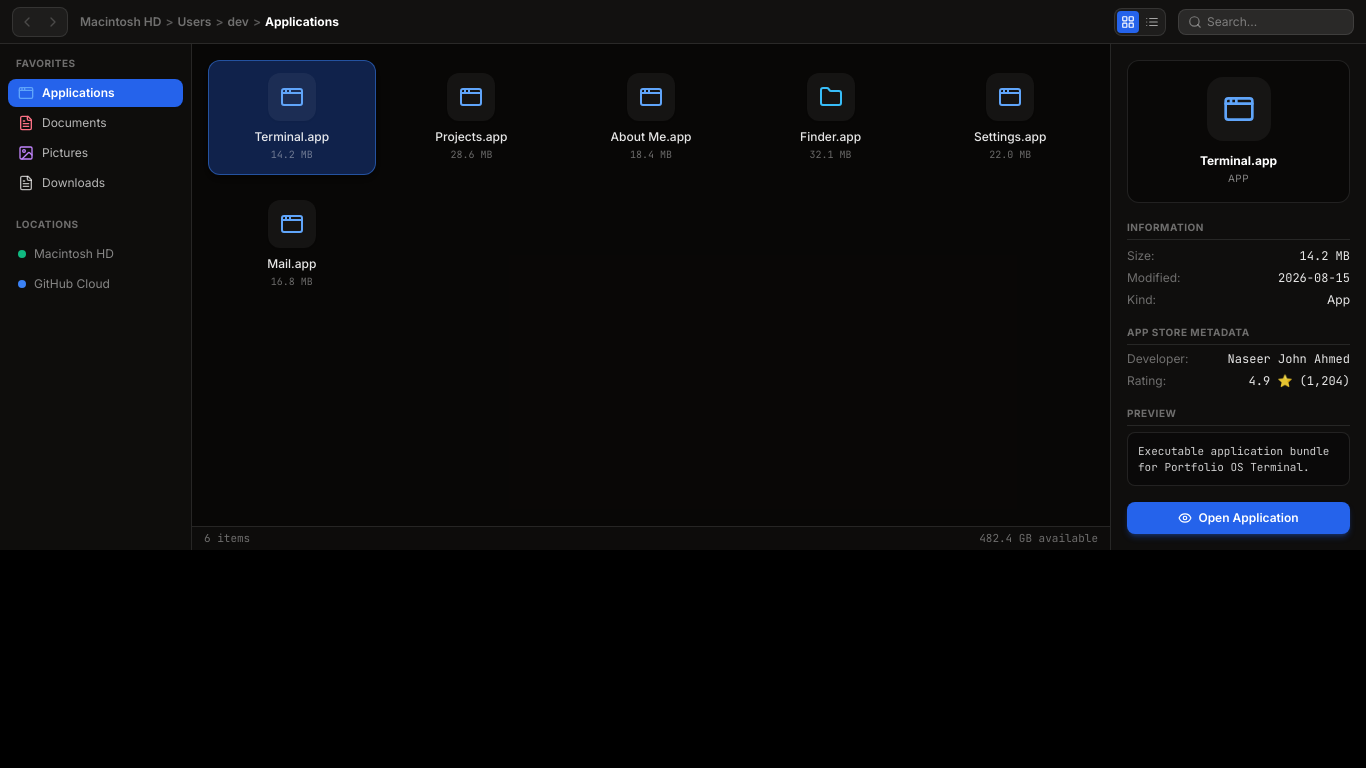
Test case: Applications Suite: 6 macOS Interactive Applications › FinderApp › toggles between Grid and List view modes
Click the button with test id "finder-view-list-btn" at {"x": 1152, "y": 22}, box left=1141, top=10, right=1163, bottom=32
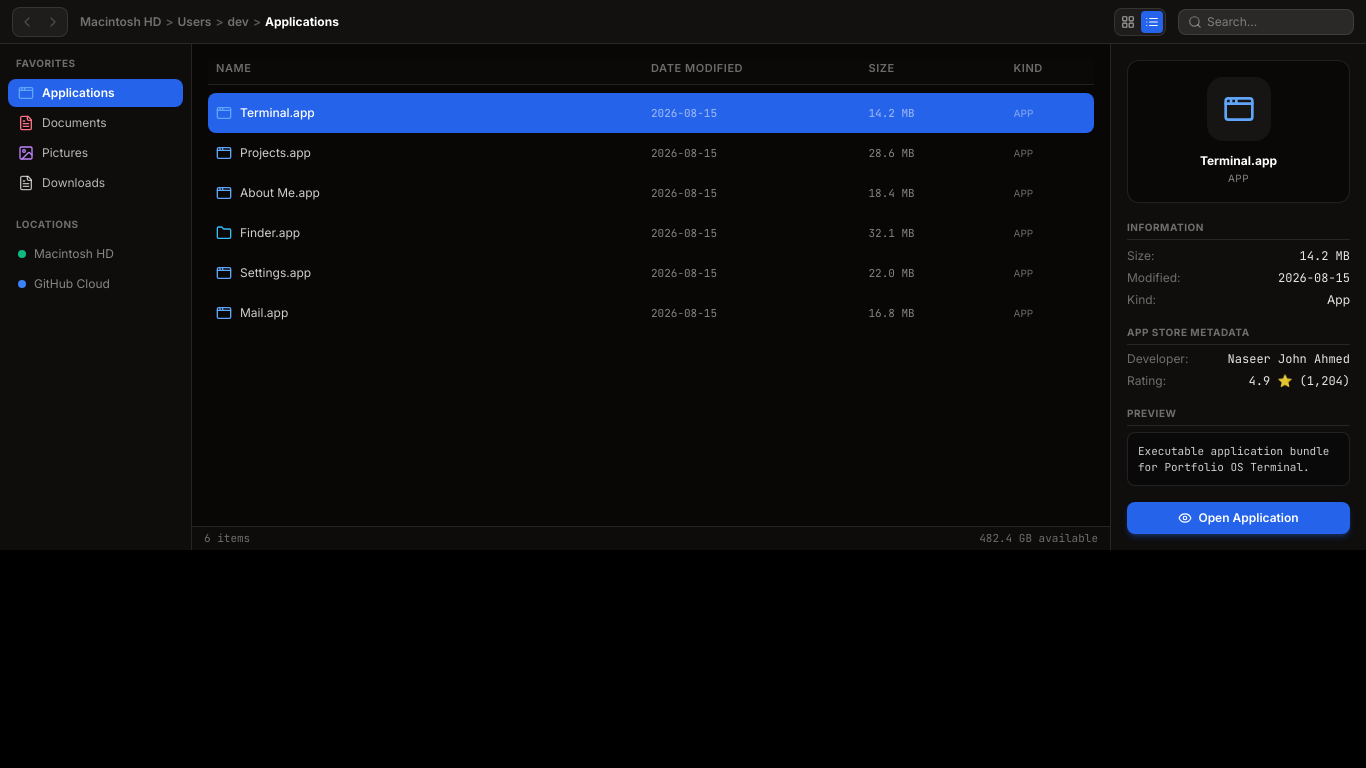
Now the text "Date Modified" is shown, box left=651, top=61, right=743, bottom=75
Now the text "Kind" is shown, box left=1014, top=61, right=1043, bottom=75
Click the button with test id "finder-view-grid-btn" at {"x": 1128, "y": 22}, box left=1117, top=10, right=1139, bottom=32
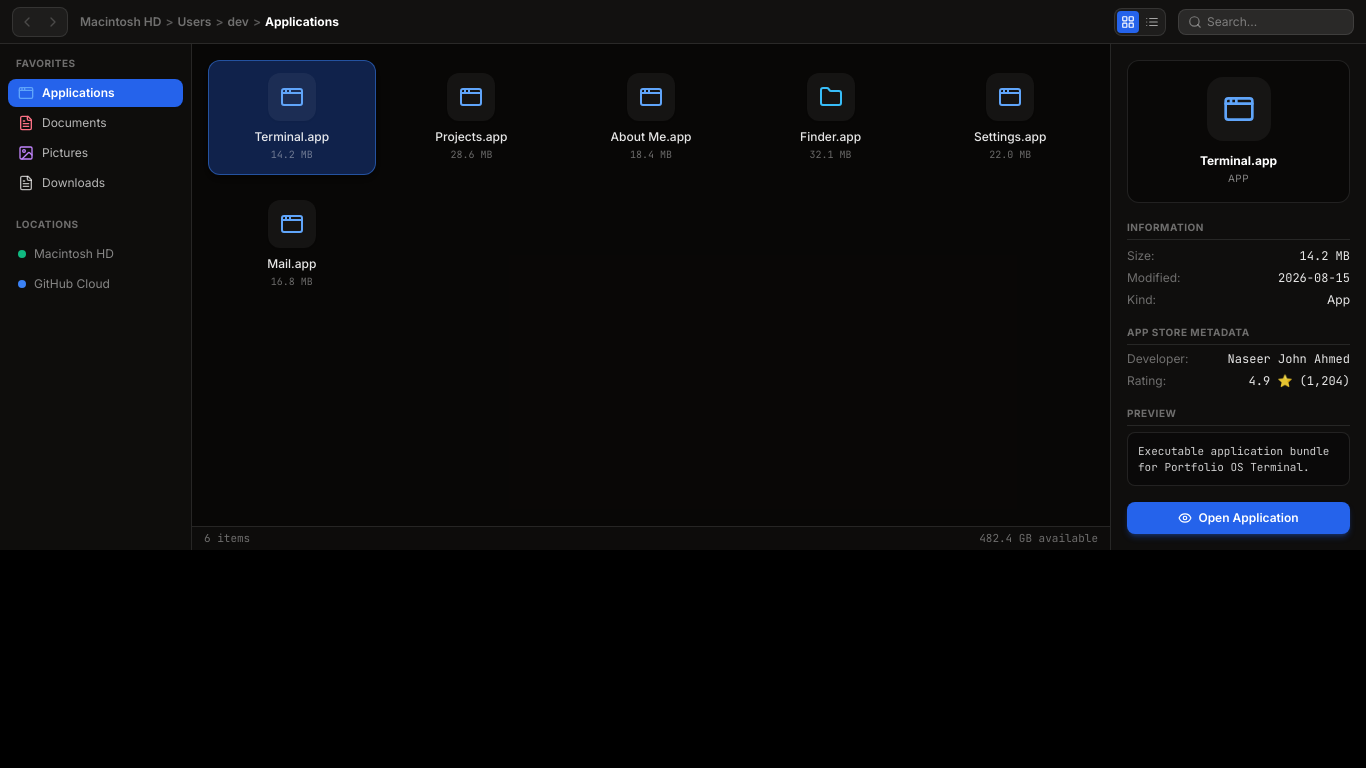
Now the text "Date Modified" is gone
